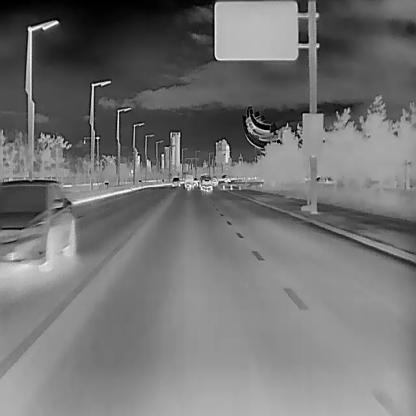car: (1, 178, 75, 273), (200, 175, 212, 191), (184, 174, 193, 188), (173, 176, 180, 186)
